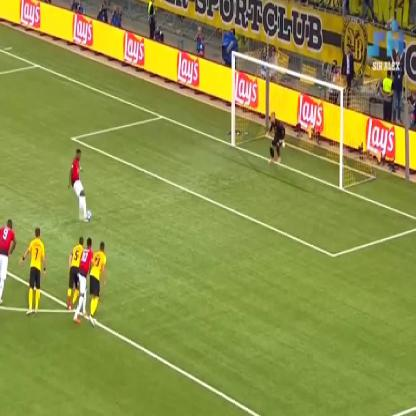penalty kick: (50, 47, 367, 221)
